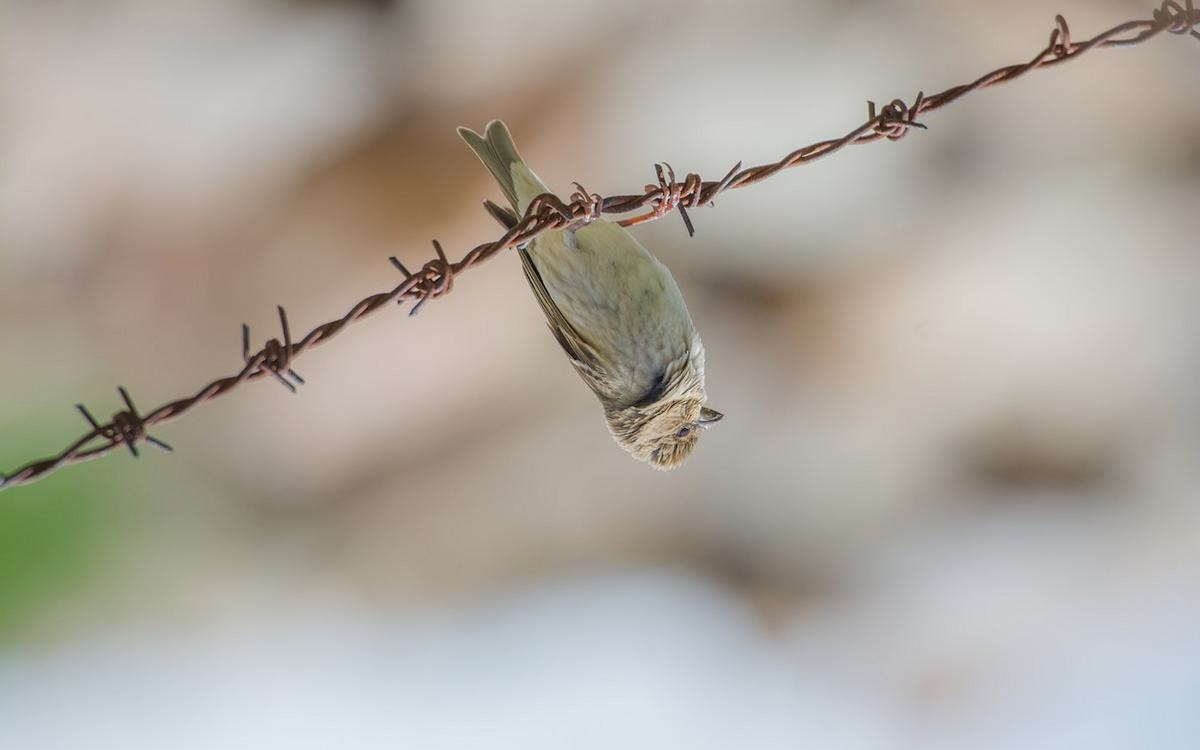rosefinch: (399, 37, 750, 468)
